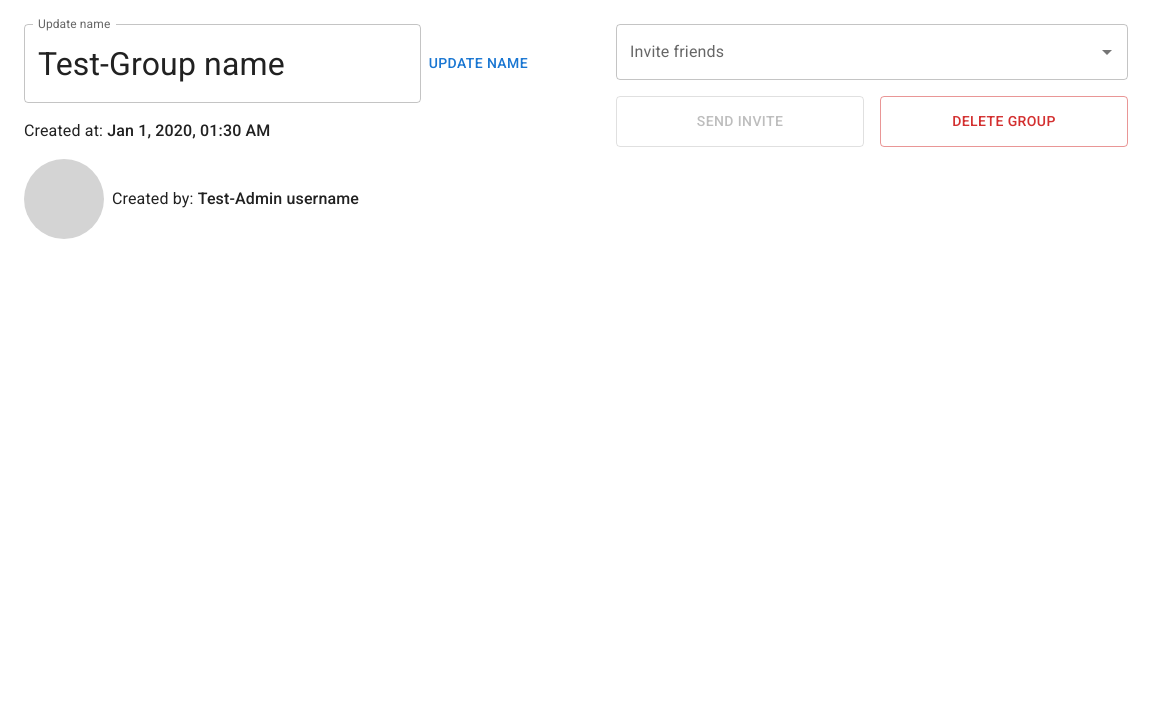
Test: group-details-header component › deleting group › should render modal when delete button is clicked
Click the button "Delete Group": click(1004, 121) [880, 96, 1128, 146]
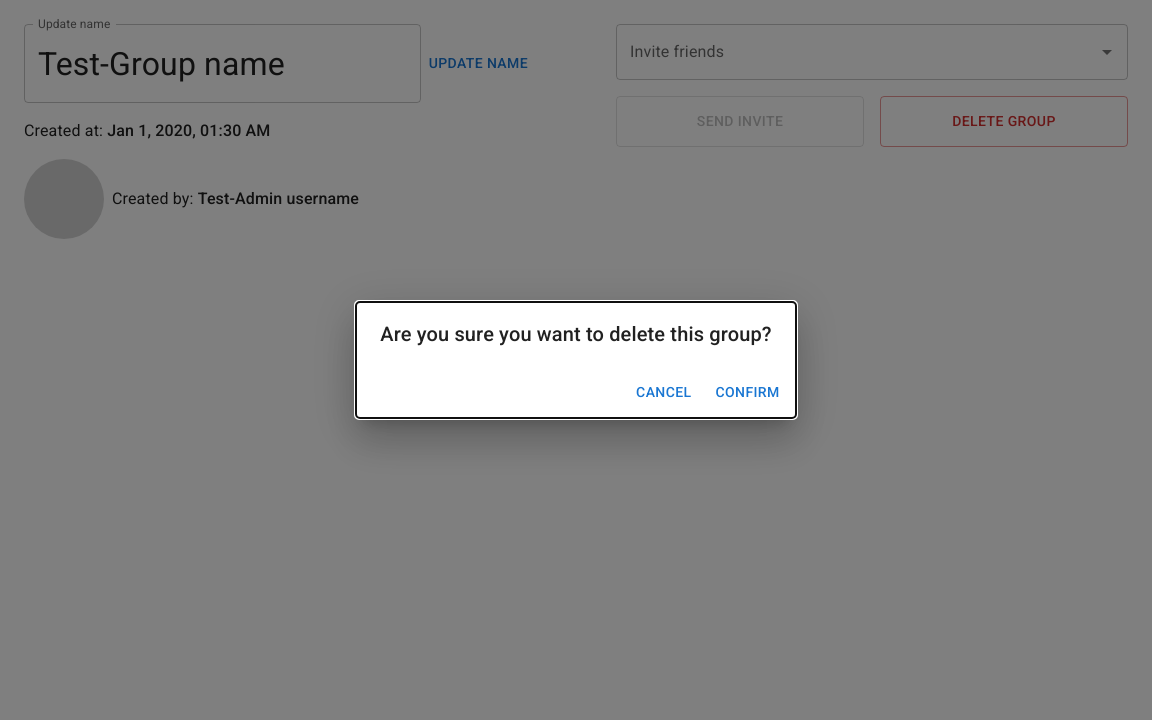
Now the dialog is shown, box [356, 302, 796, 418]
